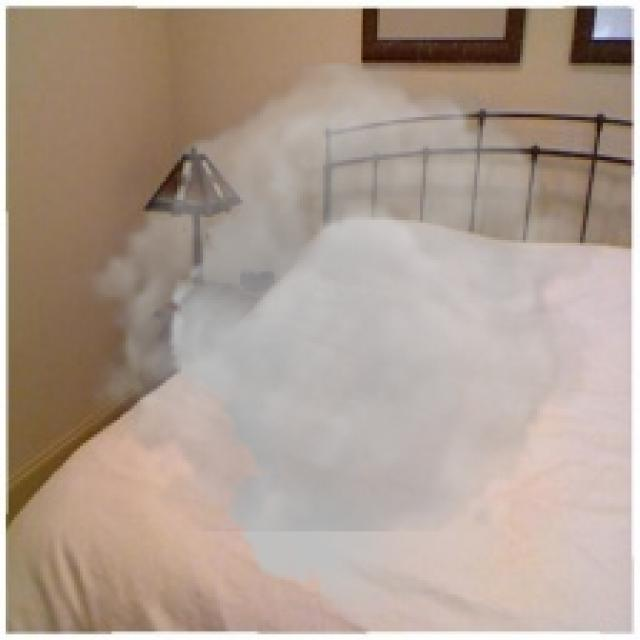smoke: (71, 63, 603, 626)
